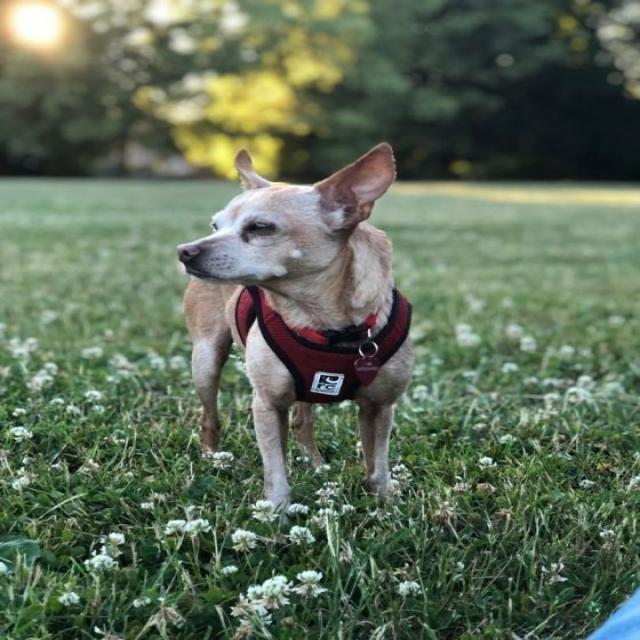chihuahua_dog: (163, 138, 407, 300)
